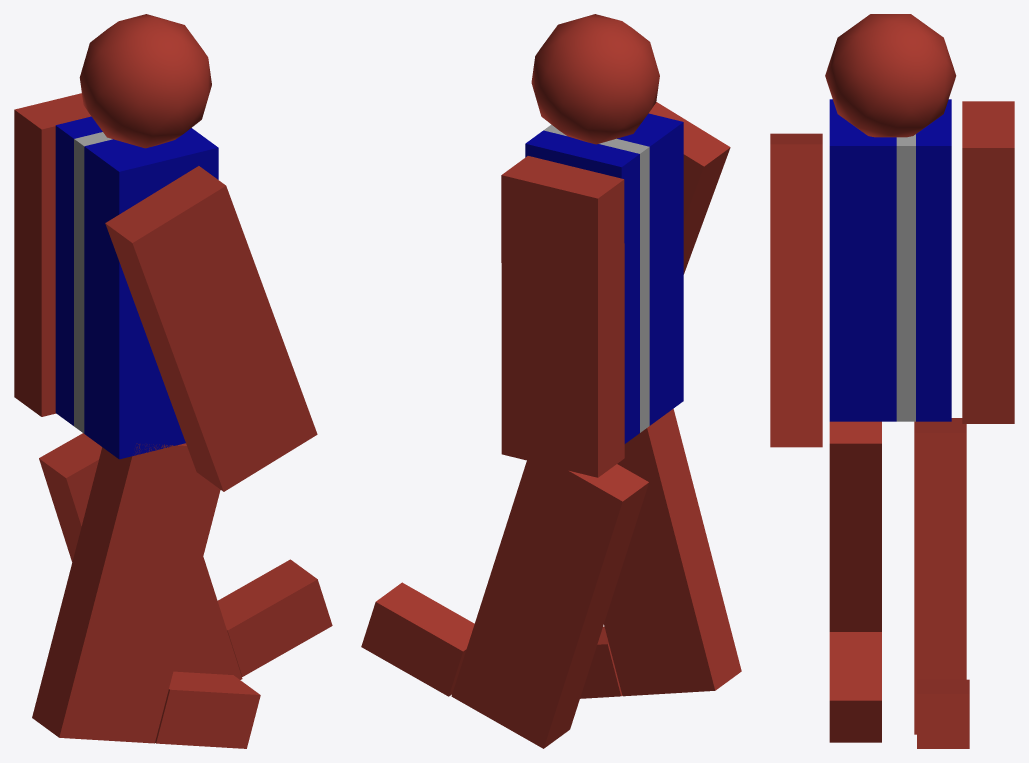
The model's file is player_000049.obj.
The picture shows the model from 3 angles, left to right: view 1: azimuth 30°, elevation 25°; view 2: azimuth 150°, elevation 25°; view 3: azimuth 270°, elevation 25°; orthographic projection. The views are drawn at different scales.
Parts seen in each view (by area): view 1: Cube.005, Cube.001, Cube, Icosphere, Cube.006, Cube.002, Cube.004, Cube.003; view 2: Cube.006, Cube.002, Cube.001, Cube, Icosphere, Cube.004, Cube.005, Cube.003; view 3: Cube, Cube.006, Cube.005, Cube.002, Icosphere, Cube.001, Cube.003, Cube.004.
Boxes of the visible parts, left/top/right/bottom form: Cube.005: left=105, top=166, right=317, bottom=491; Cube.001: left=32, top=443, right=220, bottom=743; Cube: left=55, top=116, right=218, bottom=459; Icosphere: left=79, top=14, right=211, bottom=148; Cube.006: left=14, top=93, right=91, bottom=416; Cube.002: left=39, top=433, right=242, bottom=679; Cube.004: left=217, top=559, right=332, bottom=676; Cube.003: left=155, top=671, right=260, bottom=748; Cube.006: left=501, top=156, right=624, bottom=477; Cube.002: left=451, top=460, right=648, bottom=748; Cube.001: left=604, top=409, right=741, bottom=696; Cube: left=525, top=113, right=683, bottom=443; Icosphere: left=531, top=14, right=659, bottom=144; Cube.004: left=361, top=582, right=474, bottom=696; Cube.005: left=649, top=102, right=730, bottom=274; Cube.003: left=580, top=626, right=622, bottom=698; Cube: left=829, top=99, right=951, bottom=421; Cube.006: left=962, top=101, right=1014, bottom=423; Cube.005: left=770, top=133, right=822, bottom=447; Cube.002: left=914, top=418, right=966, bottom=734; Icosphere: left=825, top=14, right=956, bottom=137; Cube.001: left=829, top=421, right=881, bottom=631; Cube.003: left=829, top=632, right=881, bottom=742; Cube.004: left=917, top=679, right=969, bottom=748.
Size of the model in its own units: 1.32 by 2.87 by 0.9137.
